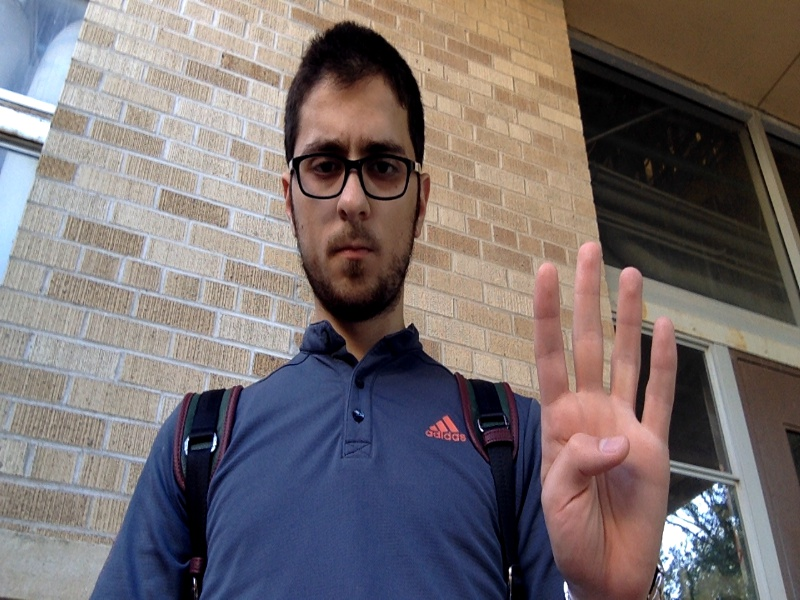4-hand: (535, 240, 677, 592)
